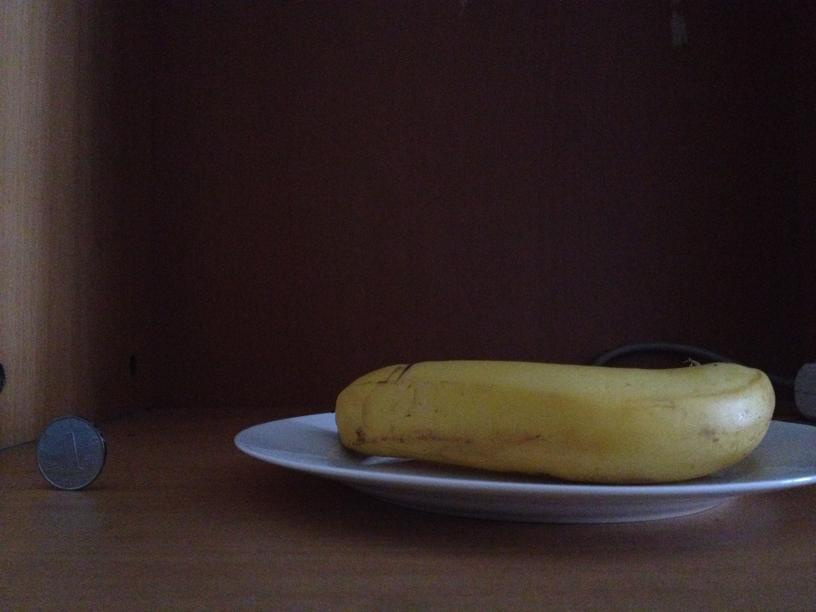banana: (335, 356, 774, 479)
coin: (36, 420, 105, 491)
